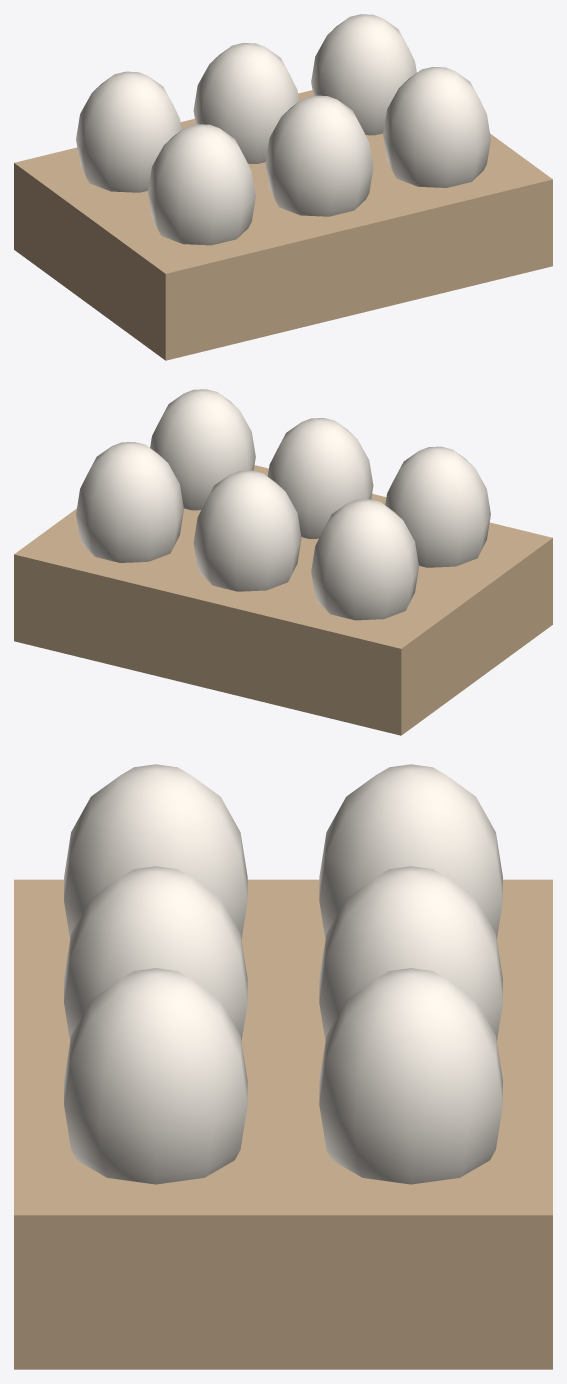
Rendered from food_yumurta.glb.
The picture shows the model from 3 angles, top to bottom: view 1: azimuth 30°, elevation 25°; view 2: azimuth 150°, elevation 25°; view 3: azimuth 270°, elevation 25°; orthographic projection. The views are drawn at different scales.
Parts seen in each view (by area): view 1: FoodNode_yumurta; view 2: FoodNode_yumurta; view 3: FoodNode_yumurta.
Boxes of the visible parts, x1,y1,x2,y2 form: FoodNode_yumurta: [14, 14, 552, 360]; FoodNode_yumurta: [14, 389, 552, 735]; FoodNode_yumurta: [14, 764, 552, 1369].
Size of the model in its own units: 0.28 by 0.128 by 0.19.
